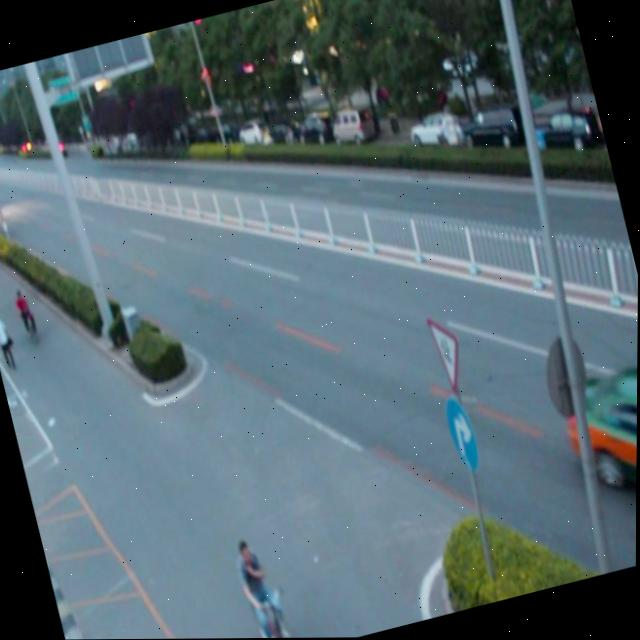car: (552, 353, 638, 534)
